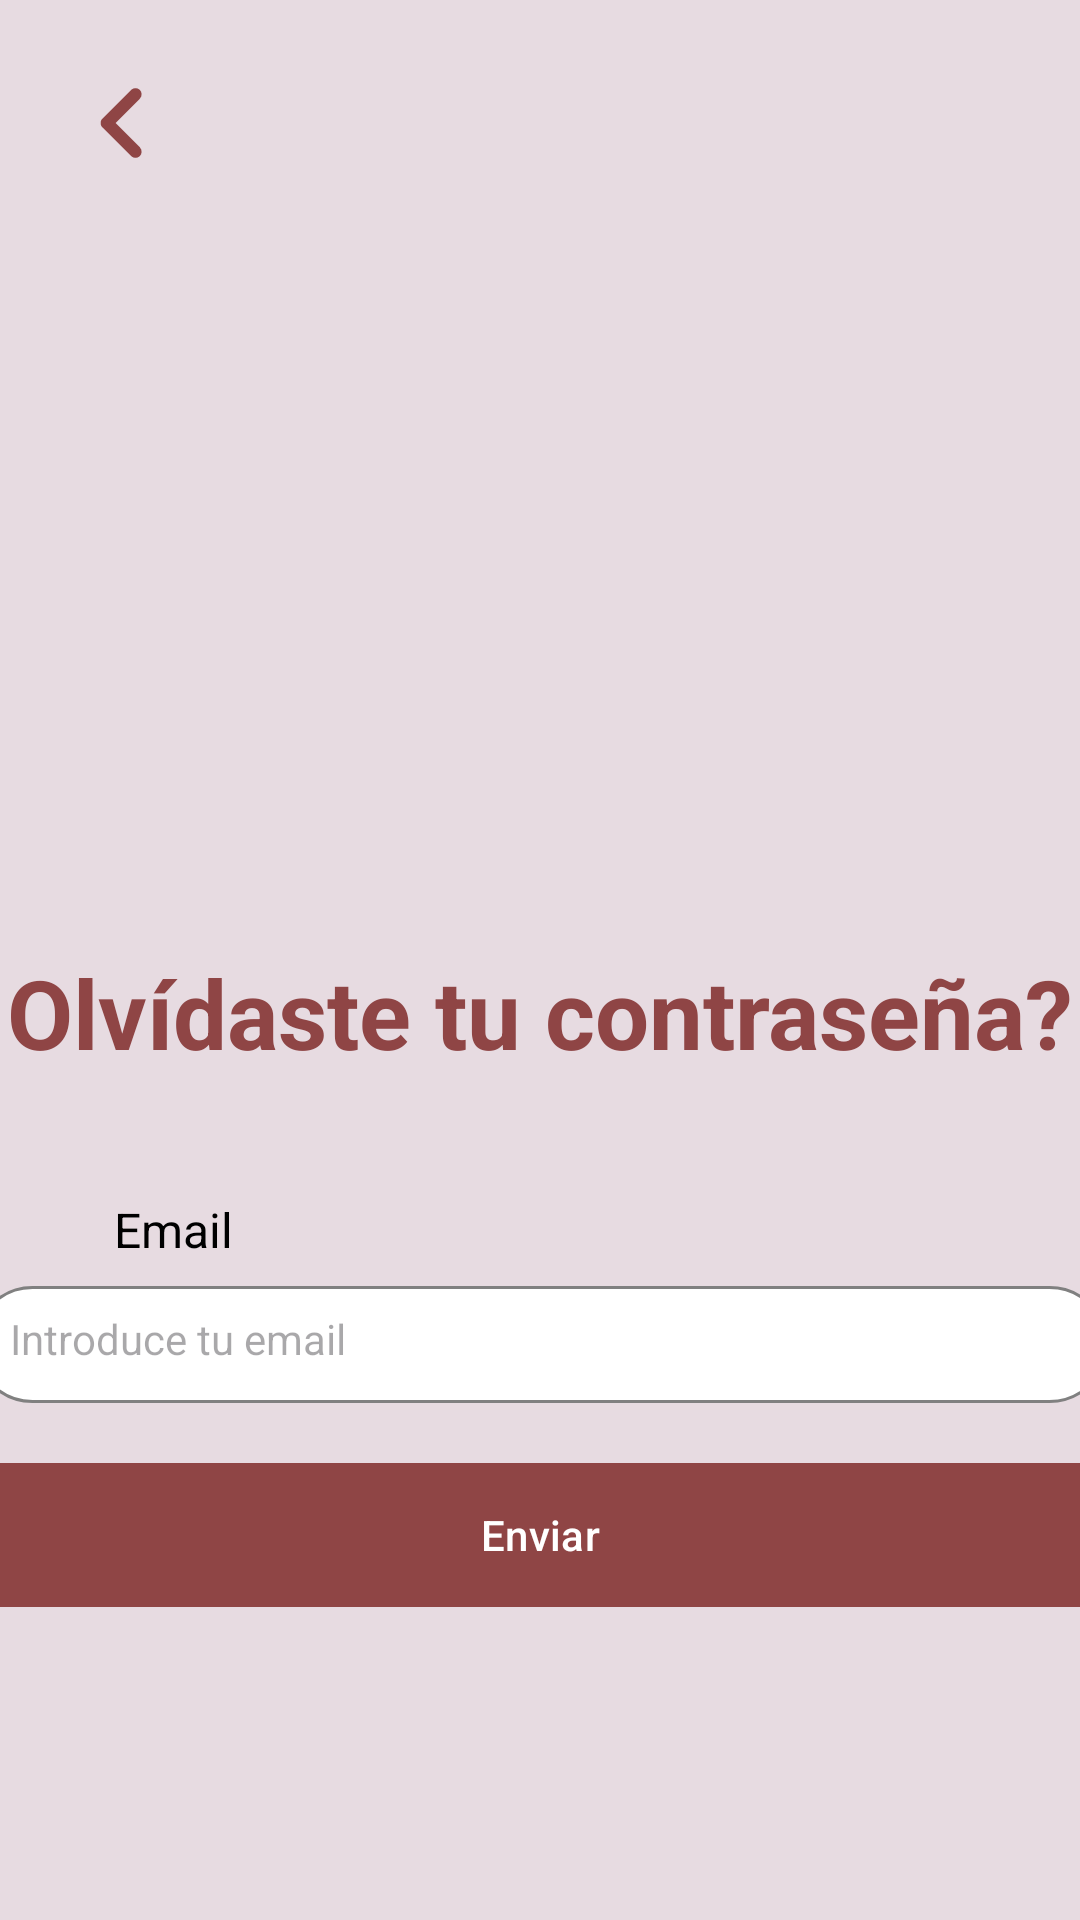

Locate icon controls on the screen. Image size 1080px x 1920px, boxes as (left=x1, top=y1, right=x2, bottom=y2).
Volver: (left=100, top=88, right=142, bottom=158)
